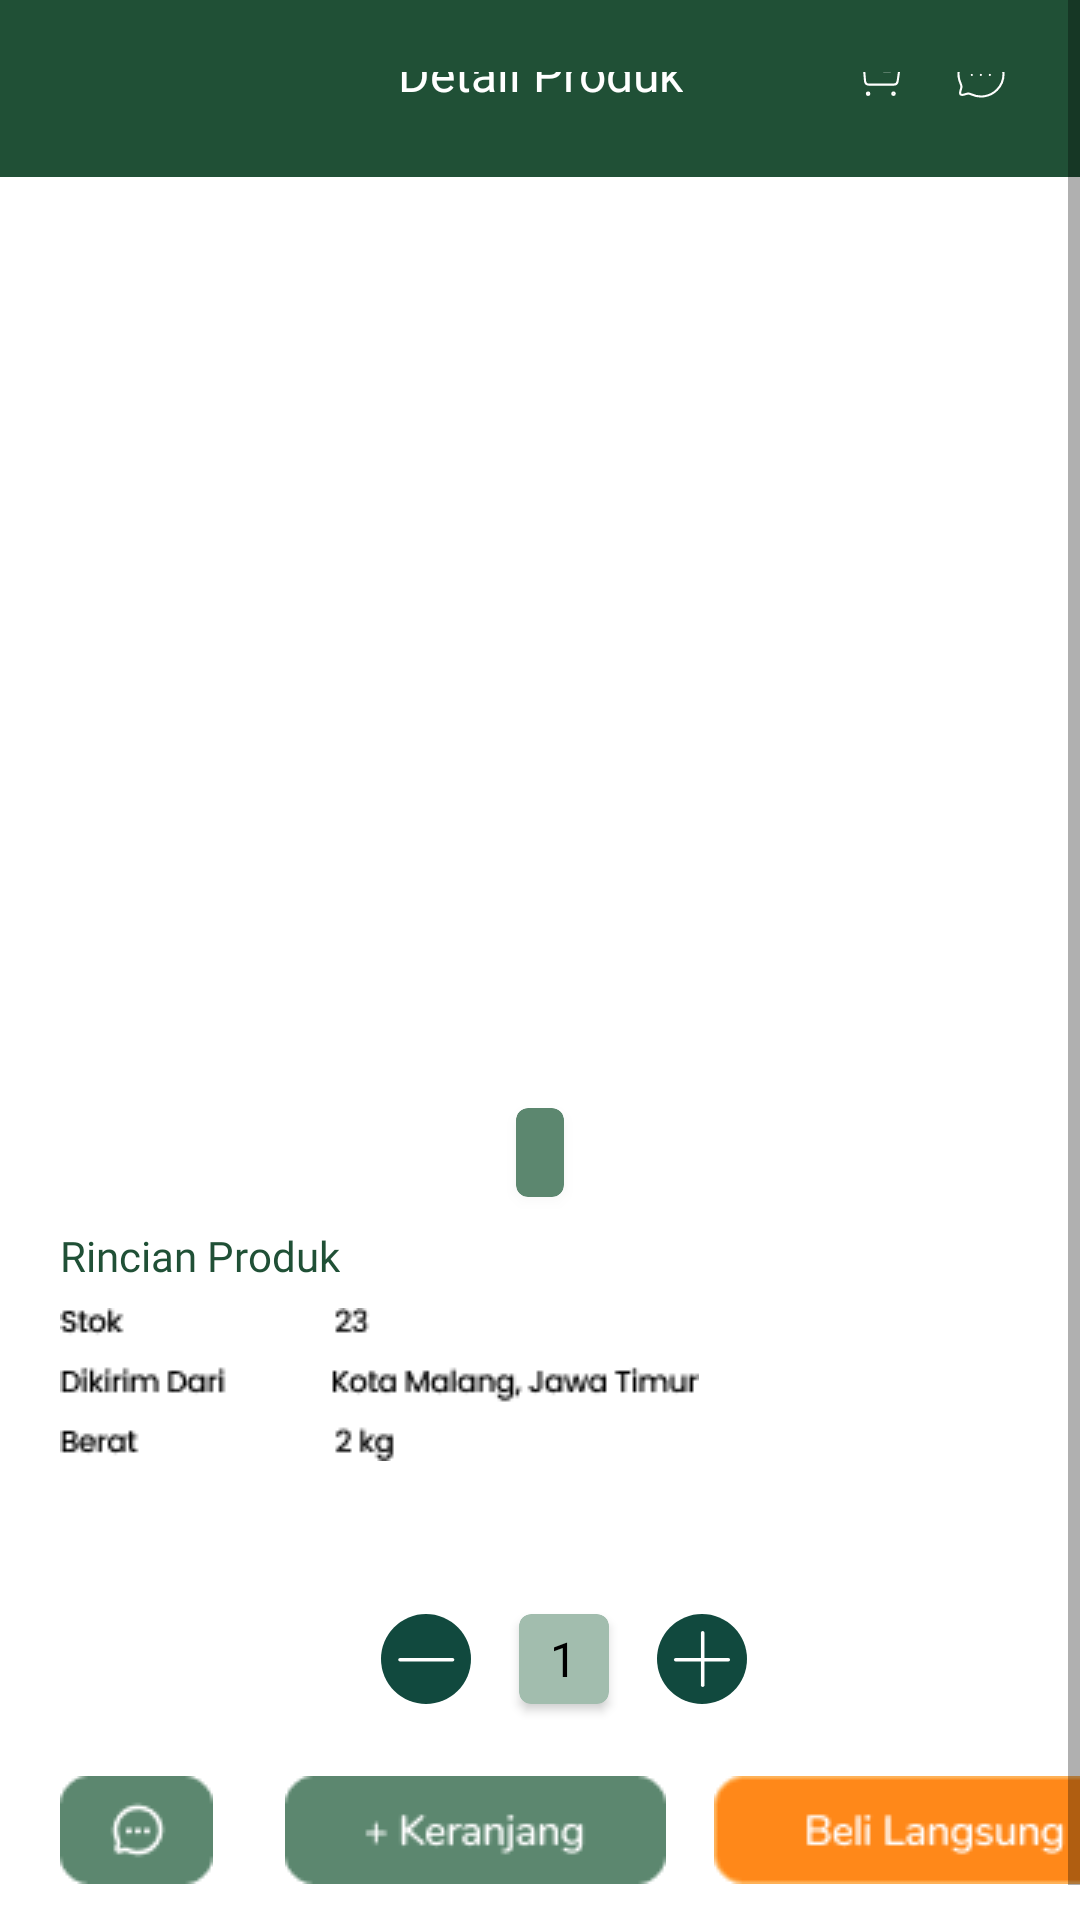

Named icons in this screenshot (1080 x 1920) and their bounding boxes, box(x1, y1, x2, y2):
add: box(657, 1614, 747, 1704)
cart: box(863, 72, 900, 96)
chat: box(957, 72, 1005, 98), box(60, 1776, 213, 1884)
remove: box(381, 1614, 471, 1704)
